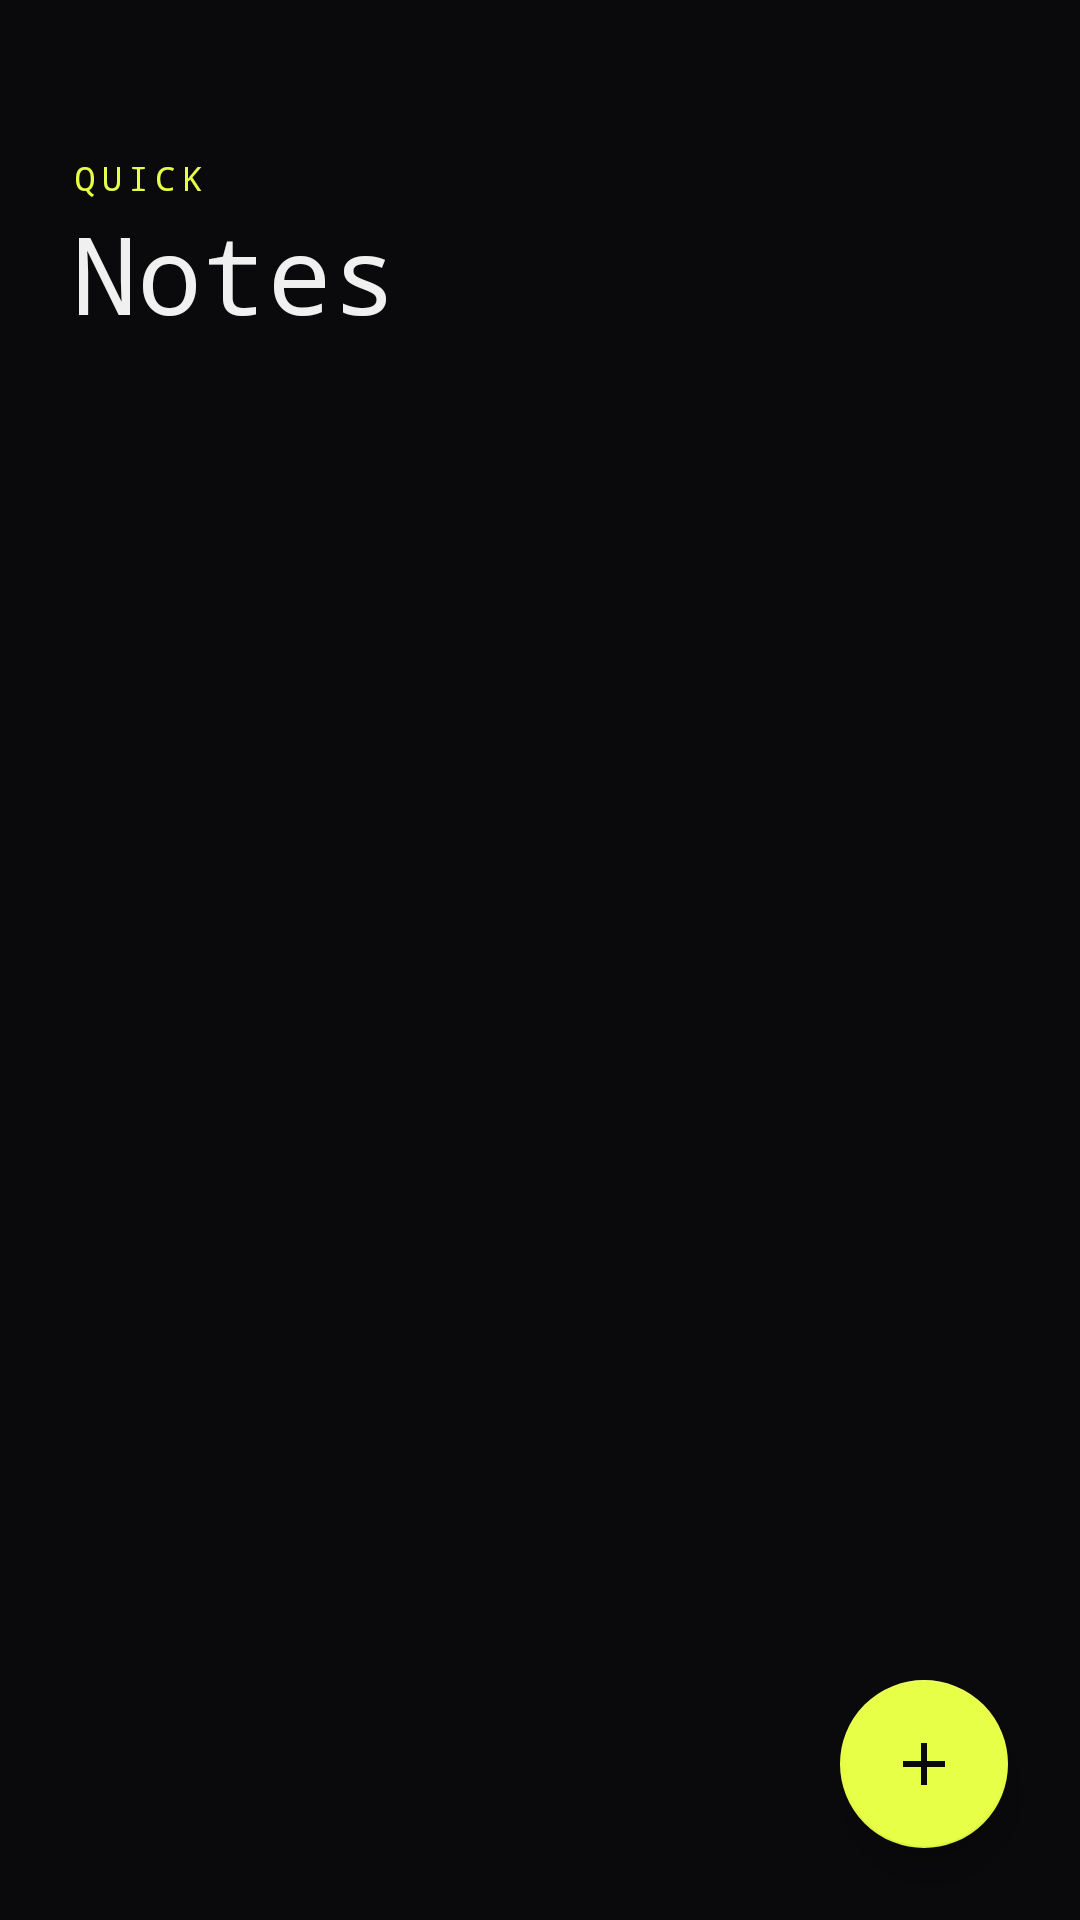

Screen size 1080×1920. Icon name, then its center in pixels as (x,y):
Nova nota: (924,1764)
